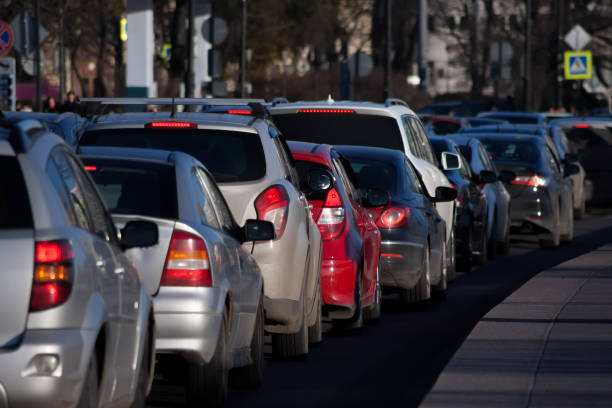car: (8, 116, 152, 400), (105, 141, 271, 354), (188, 103, 331, 325), (298, 141, 371, 318), (365, 150, 445, 308), (502, 139, 576, 247)
